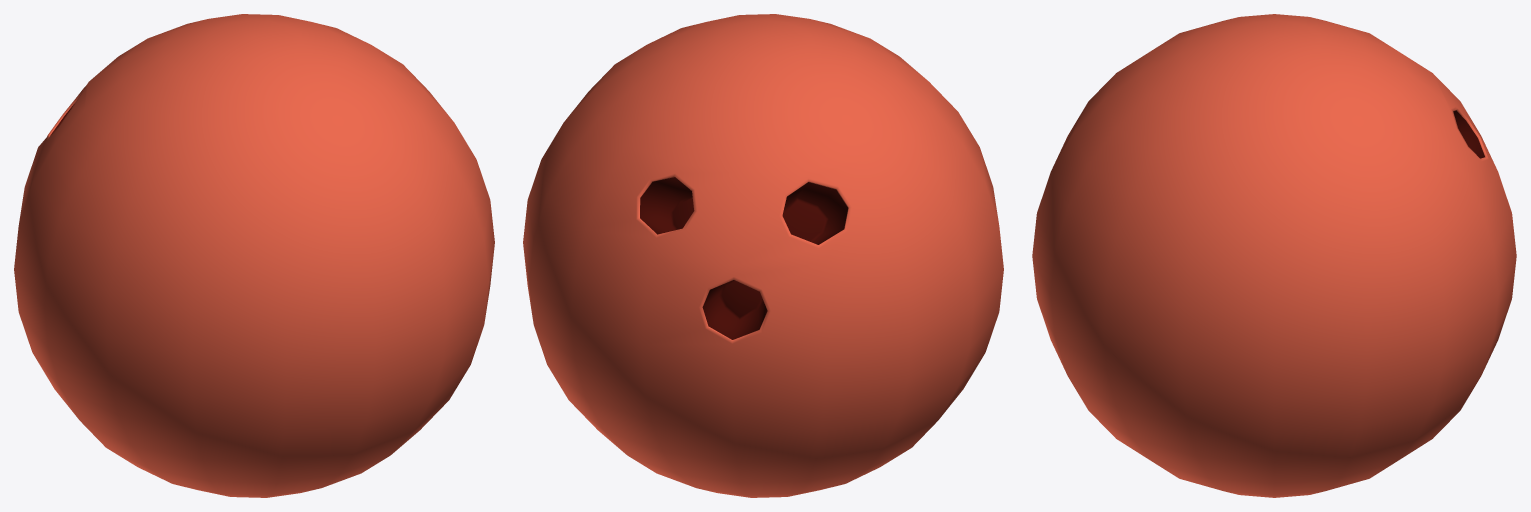
File: BowlingBall.fbx
3 views of the same model, side by side, from view 1: azimuth 30°, elevation 25°; view 2: azimuth 150°, elevation 25°; view 3: azimuth 270°, elevation 25° (orthographic).
Parts seen in each view (by area): view 1: Sphere; view 2: Sphere; view 3: Sphere.
Part boxes in pixels (x1,y1,x2,y2): Sphere: (14, 14, 494, 497); Sphere: (523, 14, 1003, 497); Sphere: (1032, 14, 1516, 497).
Bounding box in the file's own units: 30 × 30 × 30.
